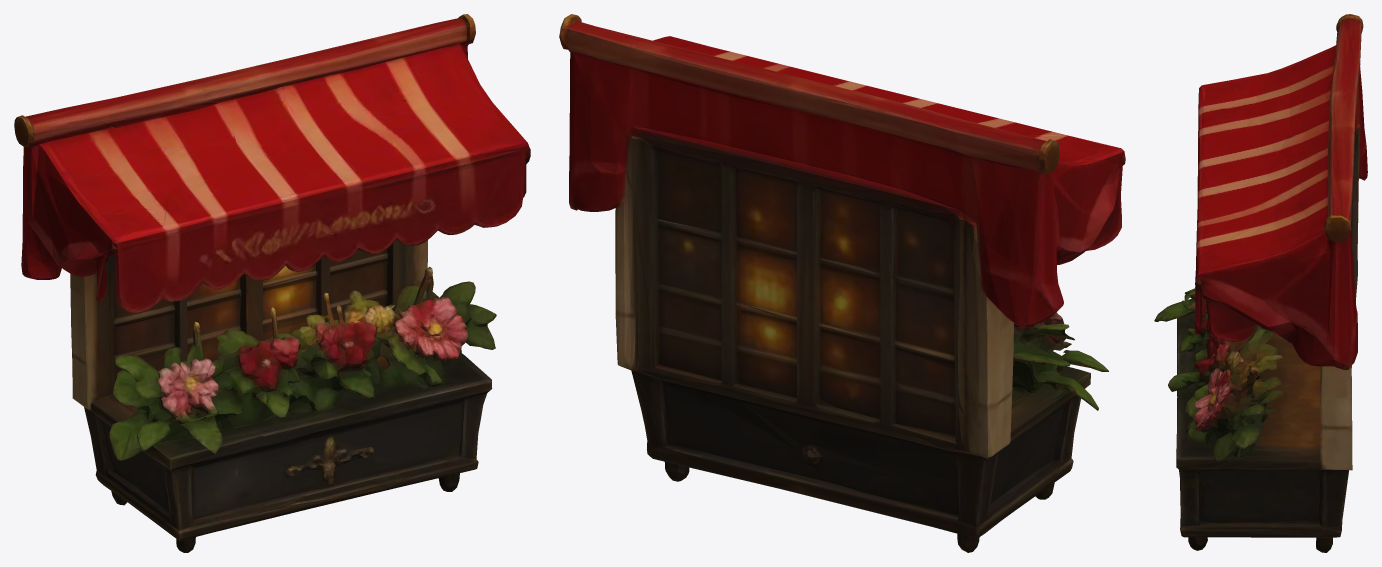
Rendered from flower-cart.glb.
3 renders of one model, left to right at view 1: azimuth 30°, elevation 25°; view 2: azimuth 150°, elevation 25°; view 3: azimuth 270°, elevation 25°, orthographic. The views are drawn at different scales.
Visible parts, largest first — view 1: world; view 2: world; view 3: world.
Boxes of the visible parts, <box> form: world: <box>14,14,530,552</box>; world: <box>559,14,1125,552</box>; world: <box>1154,14,1367,552</box>.
Bounding box in the file's own units: 0.9903 × 0.8505 × 0.4375.
Materials: 1 (1 with a texture image).
